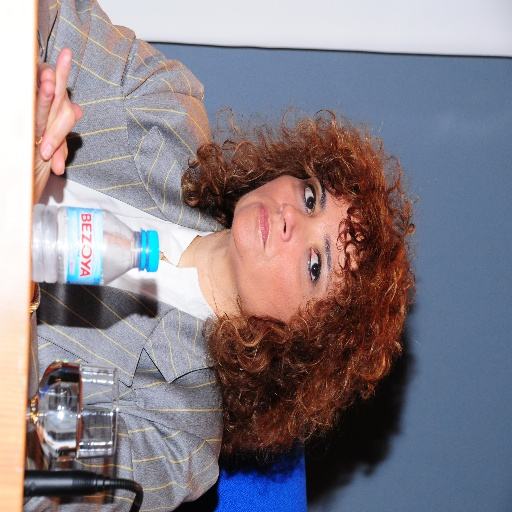hand: (33, 44, 82, 200)
